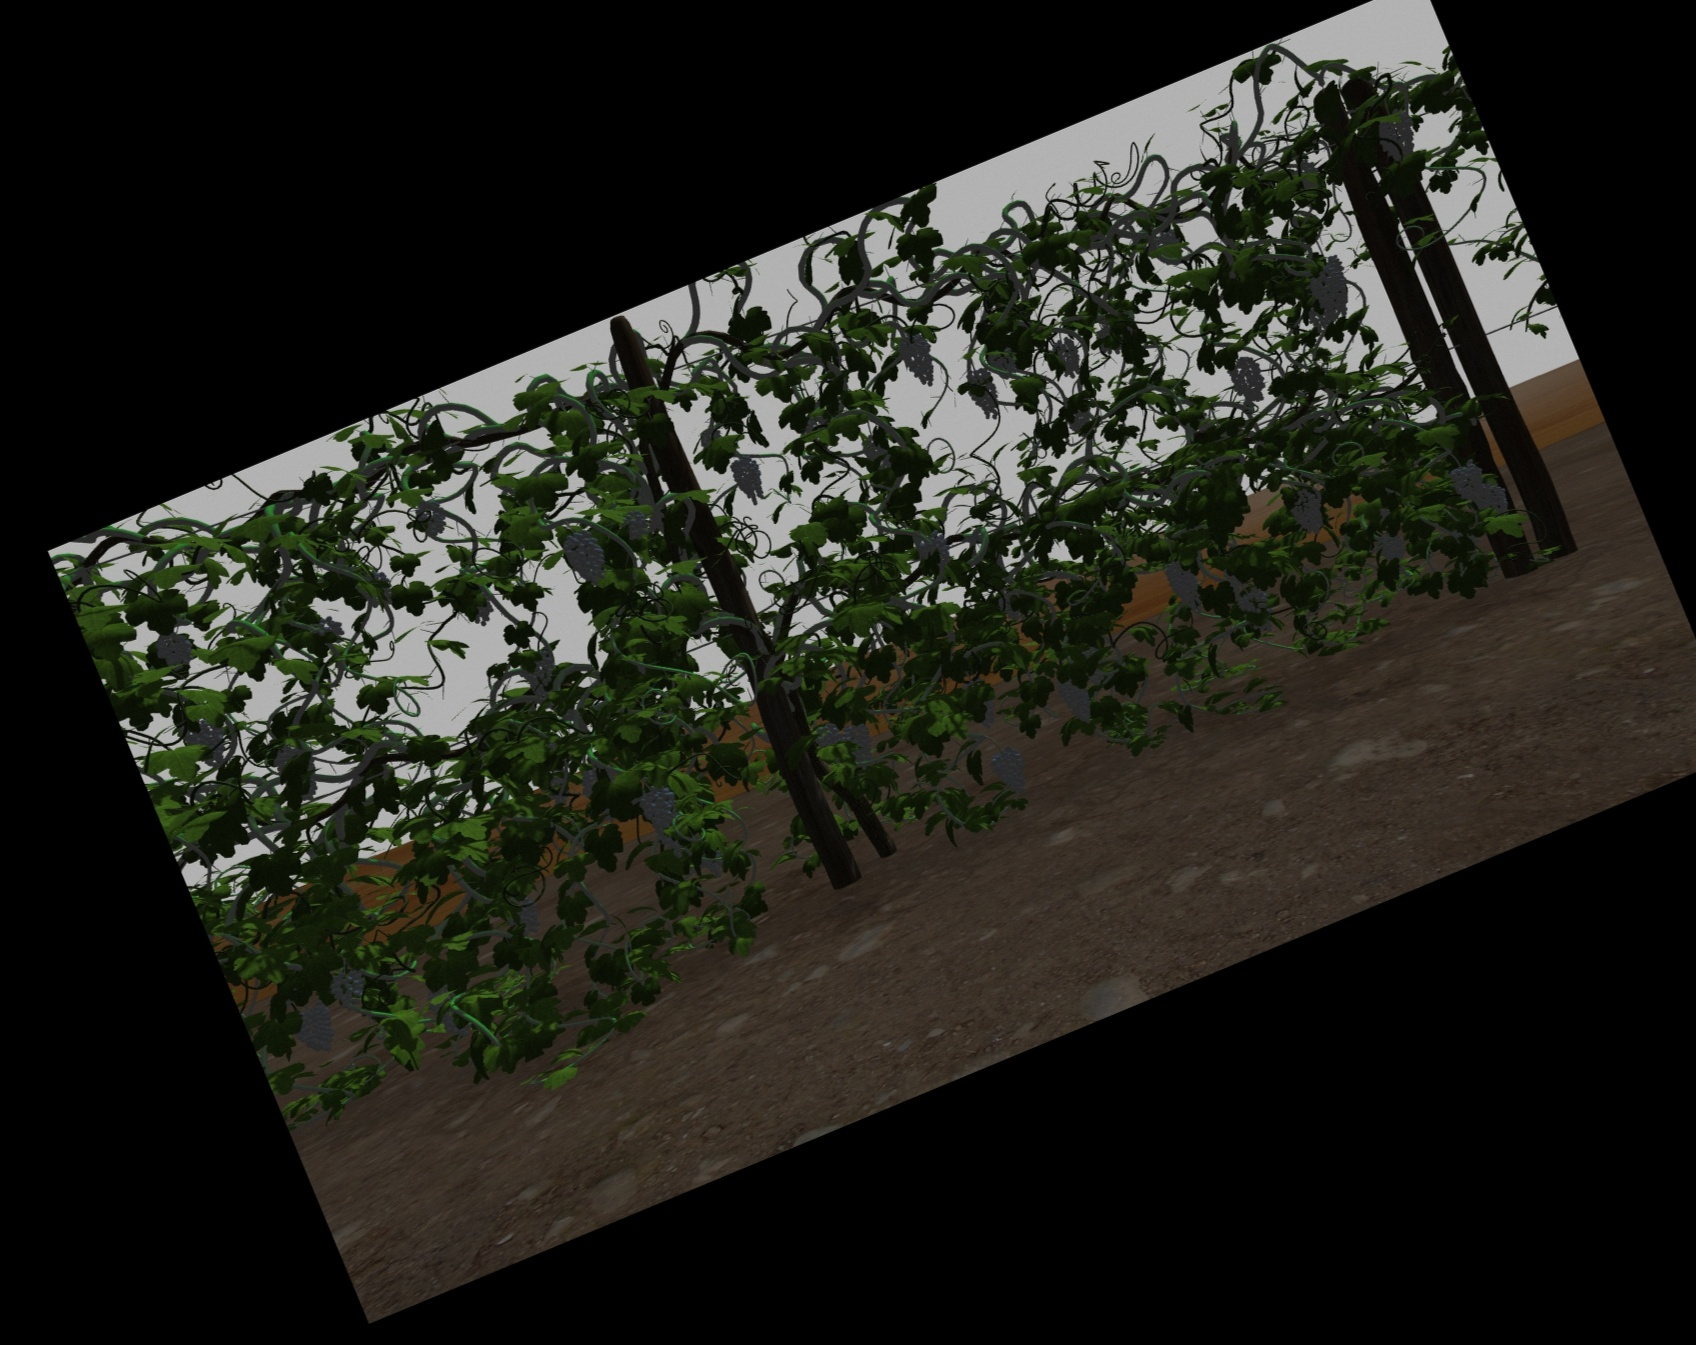grape: (1312, 257, 1350, 315), (296, 1002, 335, 1053), (646, 789, 681, 841), (1379, 112, 1415, 162), (567, 527, 602, 580), (903, 332, 933, 385), (1291, 486, 1324, 534), (995, 748, 1026, 798), (1169, 558, 1198, 610), (734, 456, 764, 502), (1232, 355, 1262, 402), (329, 971, 368, 1006), (971, 369, 998, 419), (1452, 463, 1485, 500), (1064, 677, 1090, 724), (157, 631, 191, 665), (922, 533, 951, 571), (1377, 523, 1406, 559), (1053, 340, 1079, 379), (1478, 487, 1509, 518), (848, 726, 873, 759), (624, 508, 648, 538), (1239, 589, 1266, 614), (816, 724, 841, 745)
